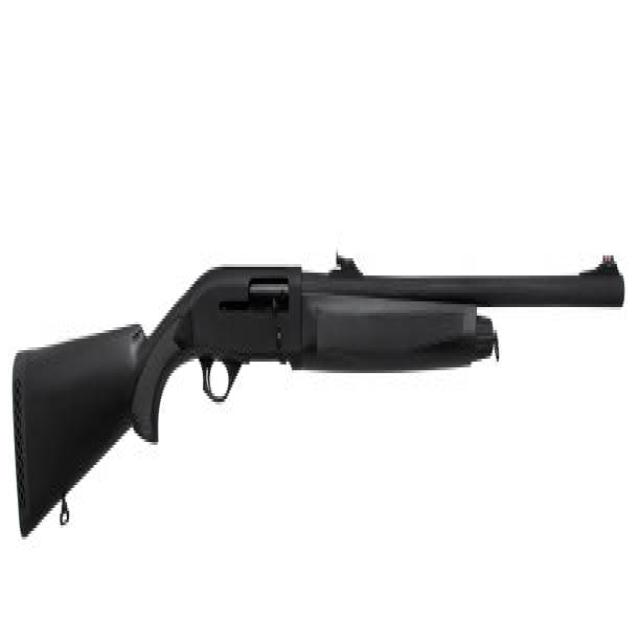rifle: (12, 241, 627, 542)
